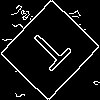T: (25, 25, 79, 79)
